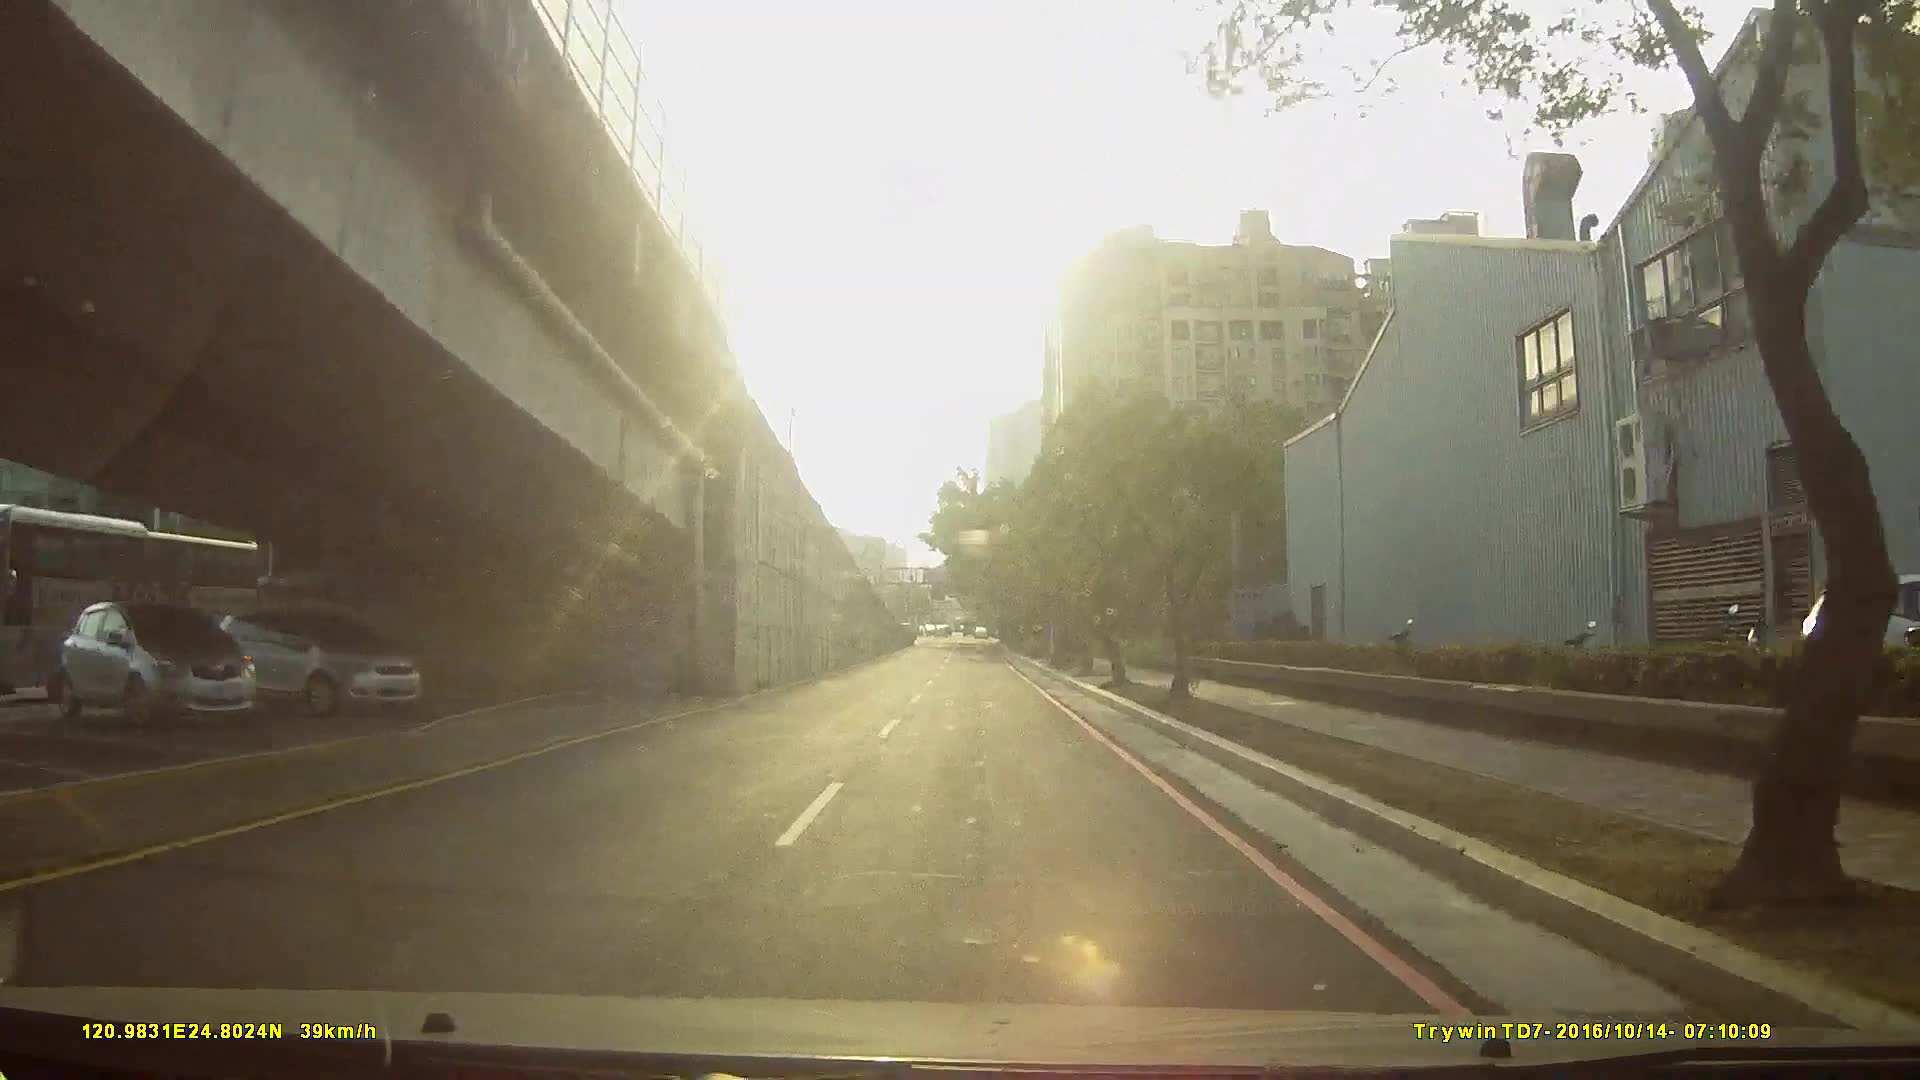vehicle: (1, 502, 261, 705), (46, 596, 264, 733), (187, 607, 436, 723)
